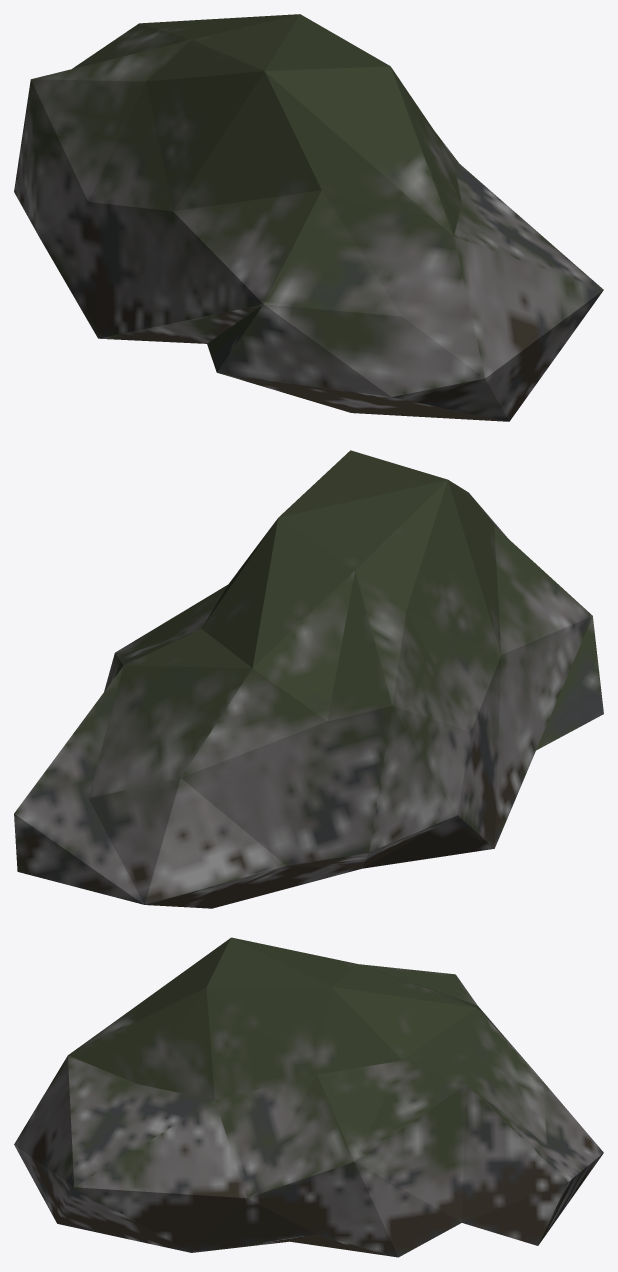
Rendered from Rock_04.fbx.
3 renders of one model, top to bottom at view 1: azimuth 30°, elevation 25°; view 2: azimuth 150°, elevation 25°; view 3: azimuth 270°, elevation 25°, orthographic. The views are drawn at different scales.
Visible parts, largest first — view 1: Rock_04; view 2: Rock_04; view 3: Rock_04.
Part boxes in pixels (x1,y1,x2,y2): Rock_04: [14, 14, 603, 421]; Rock_04: [14, 450, 603, 908]; Rock_04: [14, 937, 603, 1257].
Size of the model in its own units: 182 by 152 by 328.
Materials: 1 (1 with a texture image).
